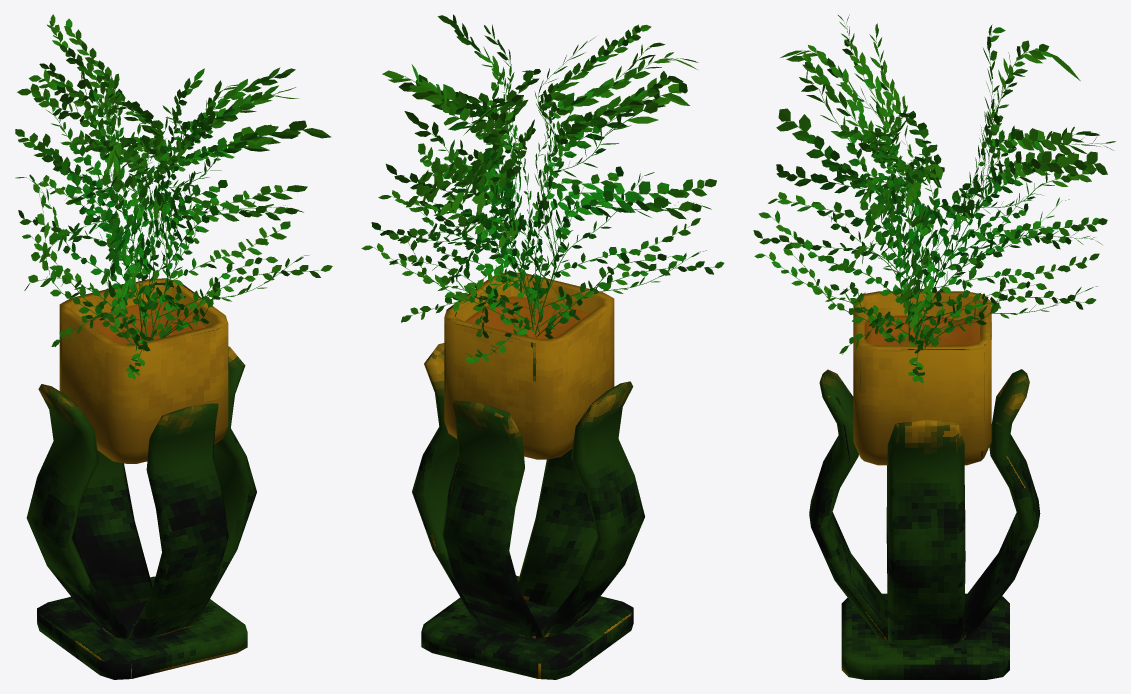
File: VaseWithPlant.glb
3 views of the same model, side by side, from view 1: azimuth 30°, elevation 25°; view 2: azimuth 150°, elevation 25°; view 3: azimuth 270°, elevation 25° (orthographic).
Parts seen in each view (by area): view 1: leaves.001; view 2: leaves.001; view 3: leaves.001.
Part boxes in pixels (<box>): leaves.001: <box>15,14,332,679</box>; leaves.001: <box>361,14,724,679</box>; leaves.001: <box>753,14,1115,679</box>.
Bounding box in the file's own units: 0.651 × 1.21 × 0.662.
3 materials, 2 textured.
